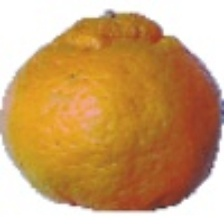tangerine: (44, 28, 192, 194)
